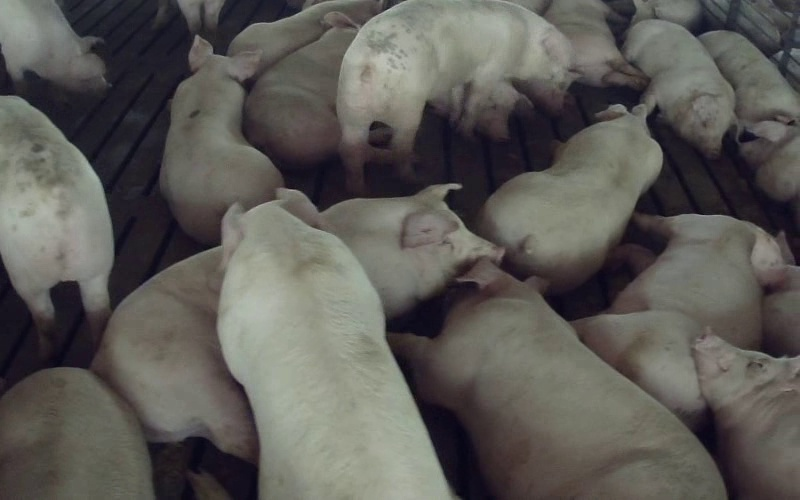pig: (389, 261, 725, 499), (217, 189, 451, 499), (337, 0, 568, 191), (571, 215, 761, 428), (478, 105, 661, 292), (160, 36, 282, 243), (243, 12, 358, 168), (693, 334, 799, 499), (623, 19, 744, 158), (699, 30, 799, 123), (544, 0, 648, 89)
